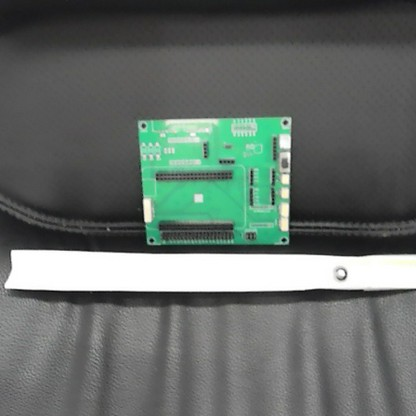ironball: (329, 263, 350, 283)
